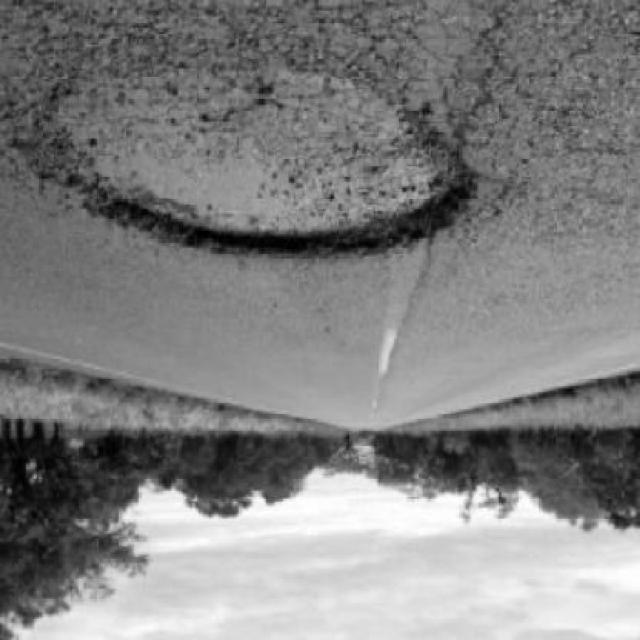pothole: (9, 37, 482, 265)
